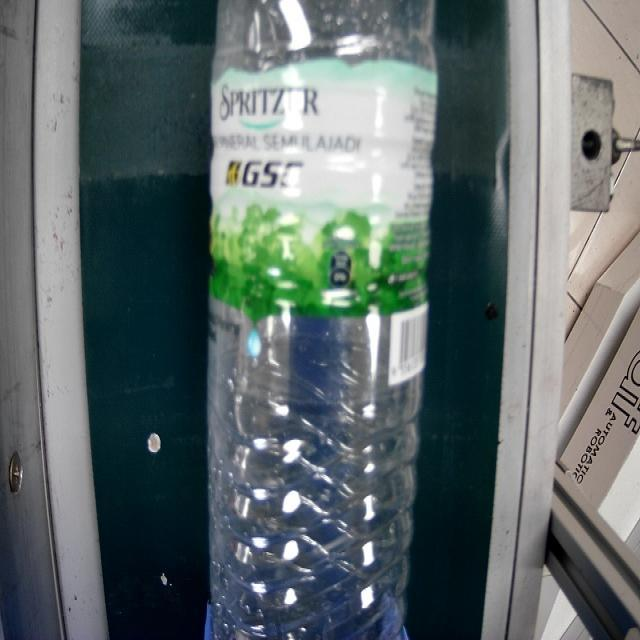Pet_Bottle: (202, 0, 436, 640)
